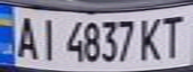3: (100, 17, 121, 63)
4: (60, 17, 84, 63)
7: (115, 16, 139, 63)
8: (81, 17, 103, 63)
A: (9, 12, 42, 61)
I: (33, 14, 60, 62)
K: (136, 14, 166, 61)
T: (157, 11, 190, 60)
